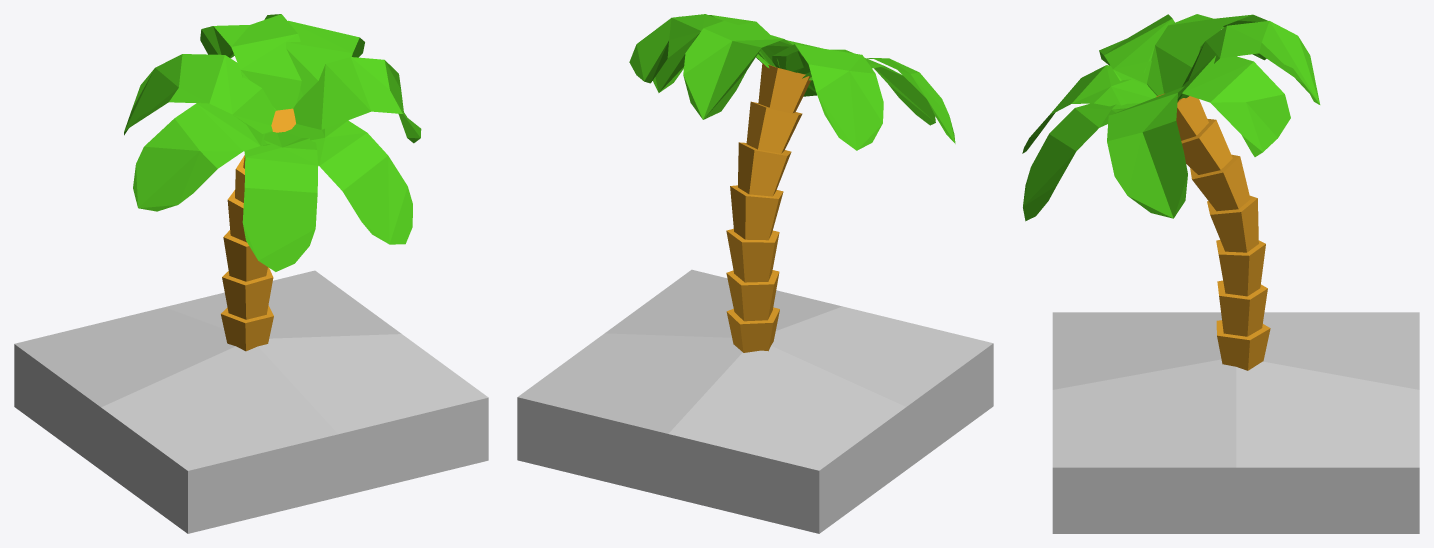
Rendered from PalmTree.fbx.
3 views of the same model, side by side, from view 1: azimuth 30°, elevation 25°; view 2: azimuth 150°, elevation 25°; view 3: azimuth 270°, elevation 25° (orthographic). The views are drawn at different scales.
Visible parts, largest first — view 1: Cube, Plane.003, Plane.004, Plane.002, Plane, Cylinder, Plane.005, Plane.006, Plane.001; view 2: Cube, Cylinder, Plane, Plane.006, Plane.001, Plane.003, Plane.004, Plane.005; view 3: Cube, Cylinder, Plane.005, Plane.001, Plane.006, Plane.002, Plane, Plane.003, Plane.004.
Part boxes in pixels (box(x1,y1,x2,y2)): Cube: box(14, 270, 488, 533); Plane.003: box(242, 131, 318, 271); Plane.004: box(133, 102, 269, 211); Plane.002: box(285, 120, 412, 244); Plane: box(124, 54, 275, 135); Cylinder: box(221, 108, 295, 351); Plane.005: box(293, 57, 421, 143); Plane.006: box(200, 14, 301, 111); Plane.001: box(286, 20, 364, 103); Cube: box(517, 269, 993, 533); Cylinder: box(726, 63, 810, 352); Plane: box(772, 44, 883, 150); Plane.006: box(683, 21, 805, 119); Plane.001: box(629, 14, 779, 83); Plane.003: box(809, 49, 935, 125); Plane.004: box(802, 58, 955, 143); Plane.005: box(652, 15, 769, 92); Cube: box(1052, 312, 1419, 533); Cylinder: box(1156, 93, 1270, 370); Plane.005: box(1107, 86, 1188, 218); Plane.001: box(1178, 55, 1290, 156); Plane.006: box(1177, 21, 1320, 104); Plane.002: box(1023, 103, 1139, 221); Plane: box(1144, 14, 1267, 95); Plane.003: box(1022, 65, 1156, 153); Plane.004: box(1099, 14, 1174, 86).
Bounding box in the file's own units: 510 × 638 × 541.
